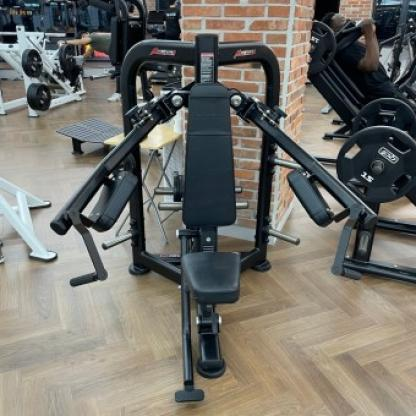lateral raises machine: (50, 55, 376, 403)
